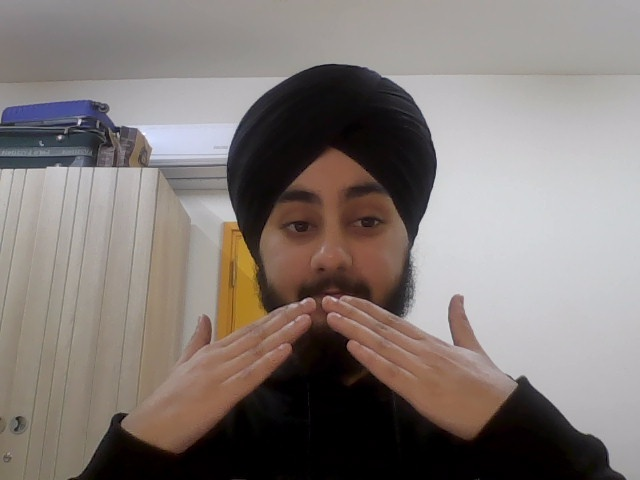Thanks: (138, 284, 518, 442)
